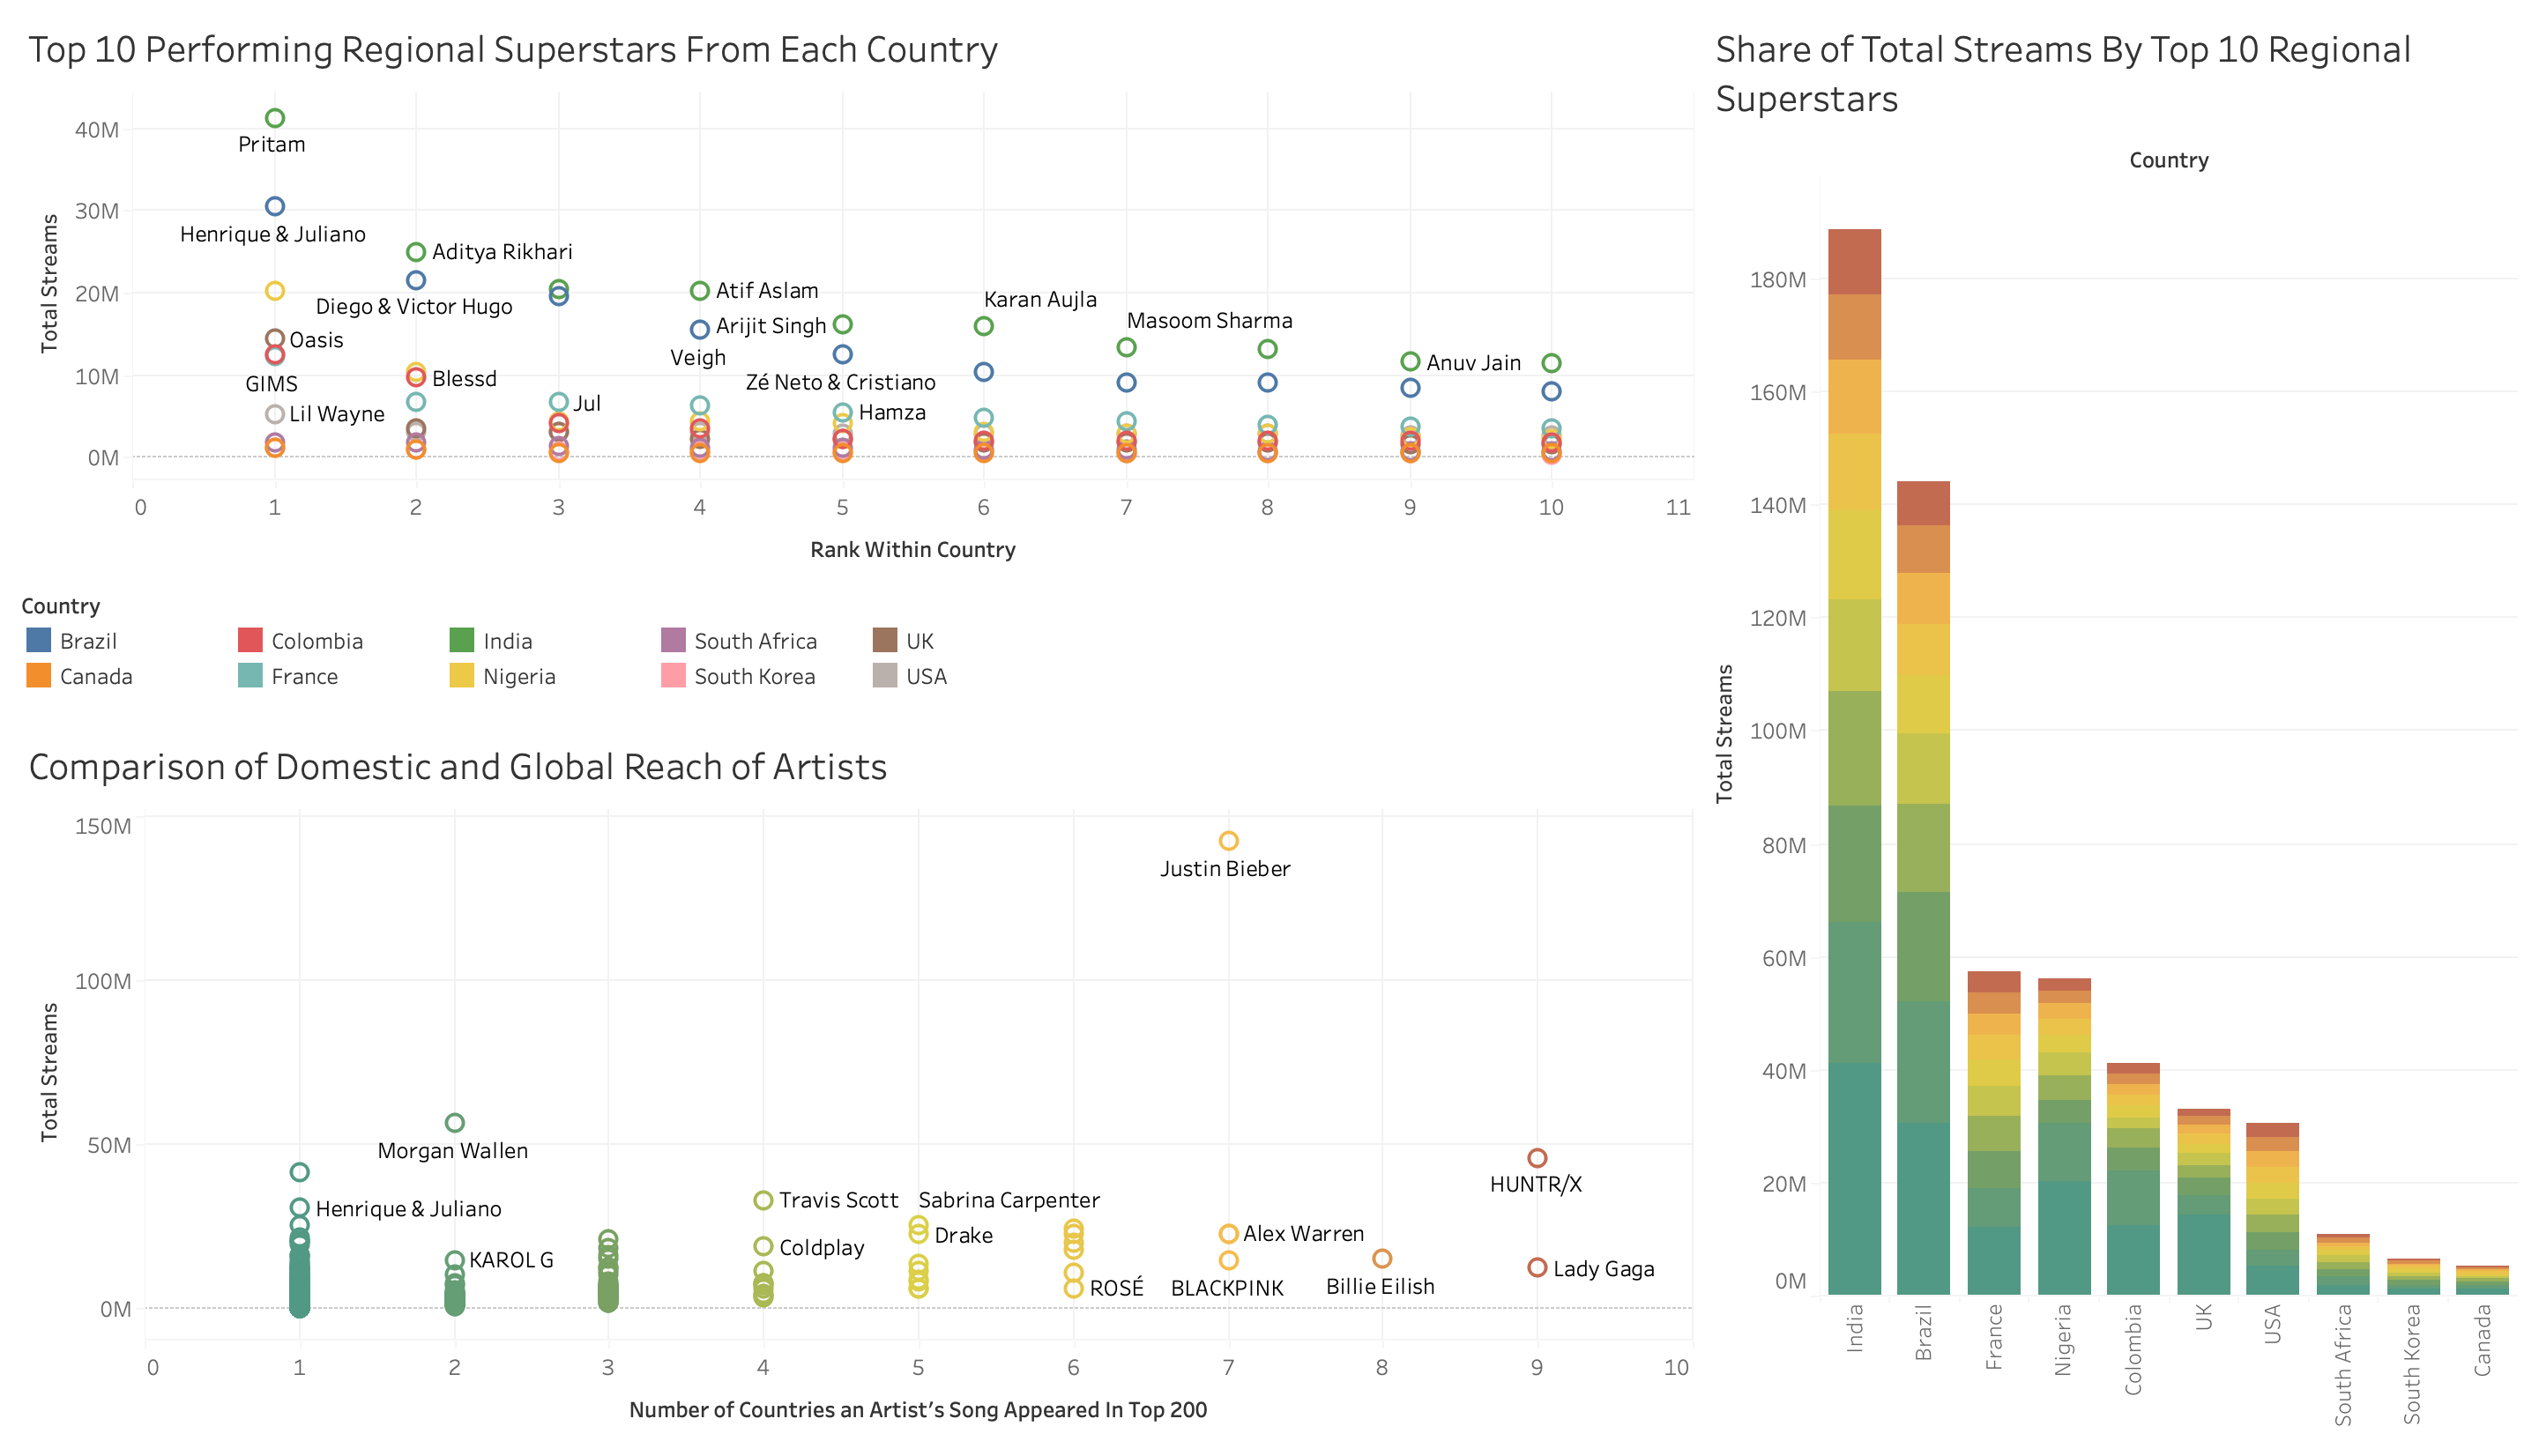

The dashboard page shown, as its layout file describes it:
{"tool":"tableau","page":{"name":"Artist_Dashboard","canvas":[1000,1000],"units":"permille","ordinal":0},"visuals":[{"type":"worksheet","title":"Sheet 5","mark":"Automatic","rows":["total_streams"],"cols":["country_rank"],"box":[7.1,10.4,571.4,391.9]},{"type":"worksheet","title":"Sheet 4","mark":"Automatic","rows":["total_streams"],"cols":["country"],"box":[578.5,10.4,414.4,979.2]},{"type":"legend","title":"Sheet 5","param":"[federated.0qpv1g21pt6zds15rmowu1icsx1i].[none:country:nk]","box":[7.1,402.3,571.4,97.7]},{"type":"worksheet","title":"Sheet 2","mark":"Automatic","rows":["total_streams"],"cols":["num_countries"],"box":[7.1,500,571.4,489.6]}]}

Visuals, with their boxes on the dashboard's canvas, which has no fixed pixel size, in thousandths of its width and height (x1, y1, x2, y2). These are canvas units, not pixel positions in the 2539x1456 screenshot, which may show the page scaled, cropped or inside an application window:
"Sheet 5" worksheet: 7/10/578/402
"Sheet 4" worksheet: 578/10/993/990
"Sheet 5" legend: 7/402/578/500
"Sheet 2" worksheet: 7/500/578/990
